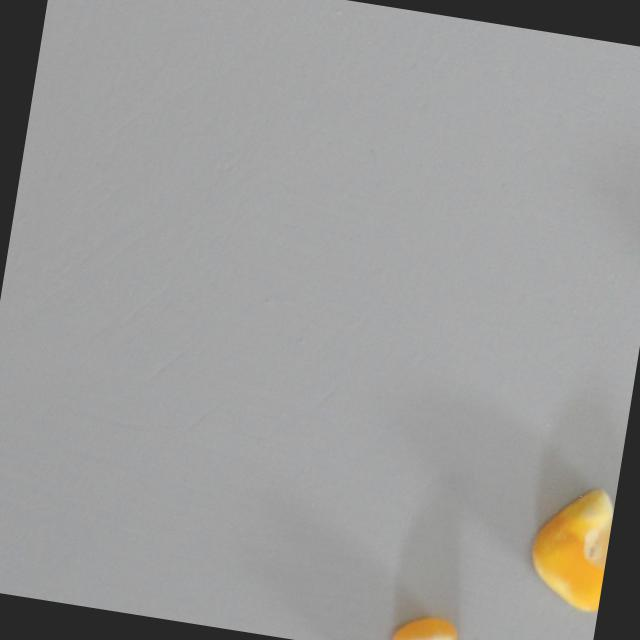no_canjicado: (392, 613, 469, 640)
punto_negro: (522, 479, 617, 614)
